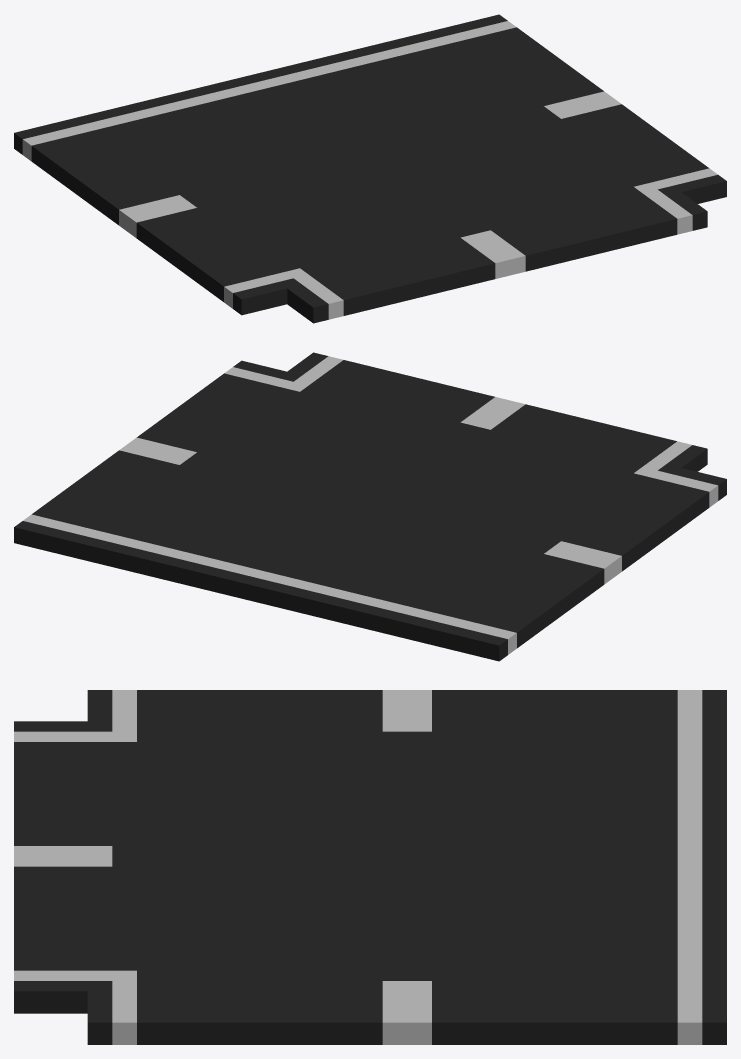
File: road-edgy-3-way-crossing-1.gltf
3 views of the same model, one above another, from view 1: azimuth 30°, elevation 25°; view 2: azimuth 150°, elevation 25°; view 3: azimuth 270°, elevation 25° (orthographic). The views are drawn at different scales.
Visible parts, largest first — view 1: road-edgy-3-way-crossing-1; view 2: road-edgy-3-way-crossing-1; view 3: road-edgy-3-way-crossing-1.
Part boxes in pixels (box(x1,y1,x2,y2)): road-edgy-3-way-crossing-1: box(14, 14, 726, 323); road-edgy-3-way-crossing-1: box(14, 352, 726, 661); road-edgy-3-way-crossing-1: box(14, 690, 726, 1044).
Bounding box in the file's own units: 3.2 × 0.1 × 2.9.
1 material, 1 textured.
